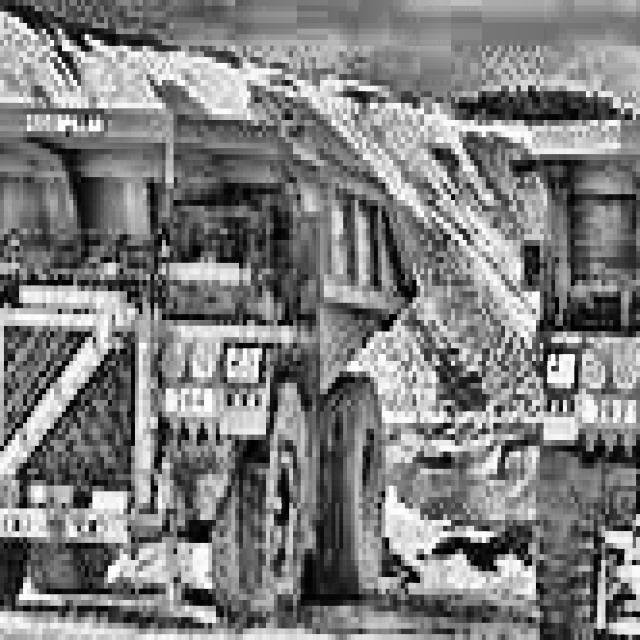dump_truck: (0, 34, 420, 623), (516, 80, 640, 640)
